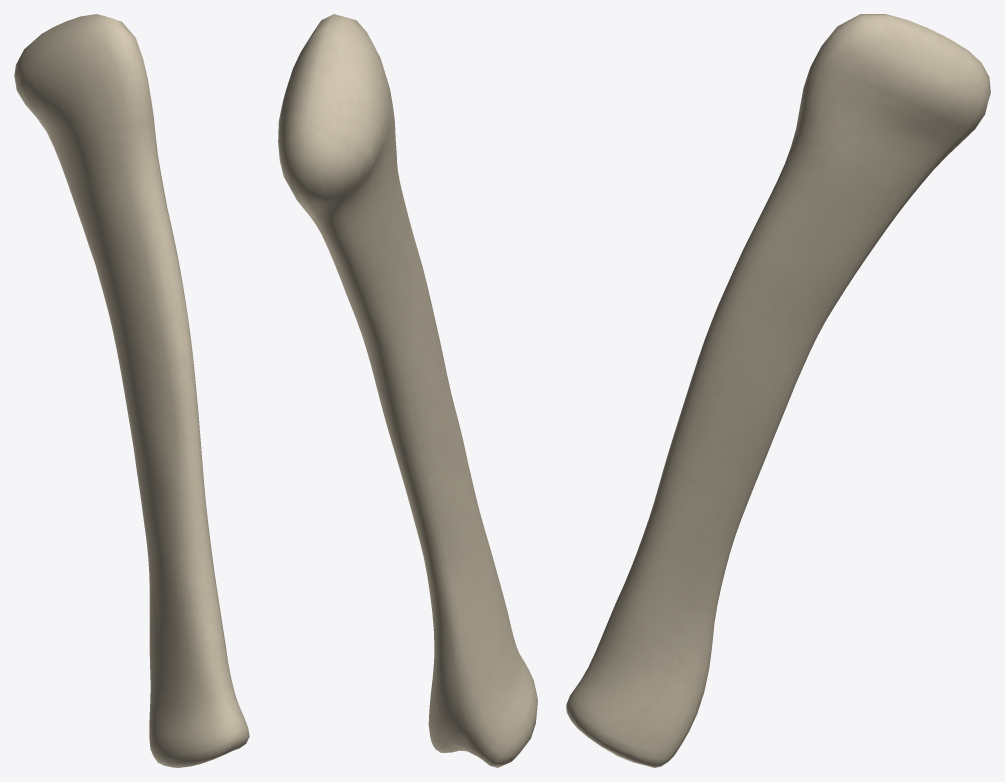
Rendered from R metacarpi secundum.fbx.
The picture shows the model from 3 angles, left to right: view 1: azimuth 30°, elevation 25°; view 2: azimuth 150°, elevation 25°; view 3: azimuth 270°, elevation 25°; orthographic projection. The views are drawn at different scales.
Parts seen in each view (by area): view 1: R metacarpi secundum; view 2: R metacarpi secundum; view 3: R metacarpi secundum.
Boxes of the visible parts, bbox=[...] form: R metacarpi secundum: bbox=[14, 14, 249, 767]; R metacarpi secundum: bbox=[278, 14, 537, 767]; R metacarpi secundum: bbox=[566, 14, 990, 767].
Size of the model in its own units: 1.37 by 10.6 by 5.45.
